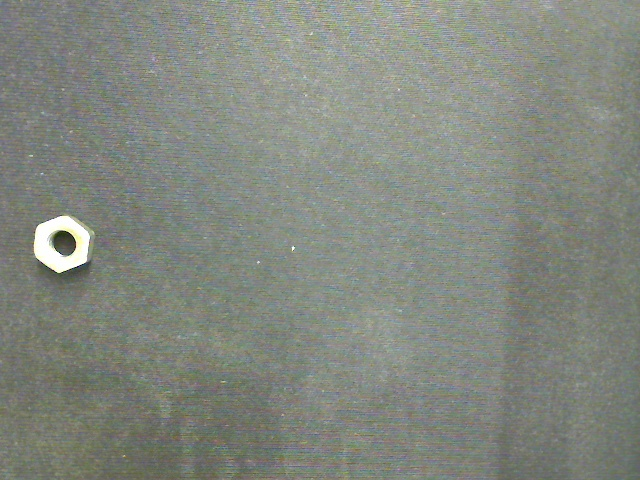Nut: (33, 213, 96, 274)
